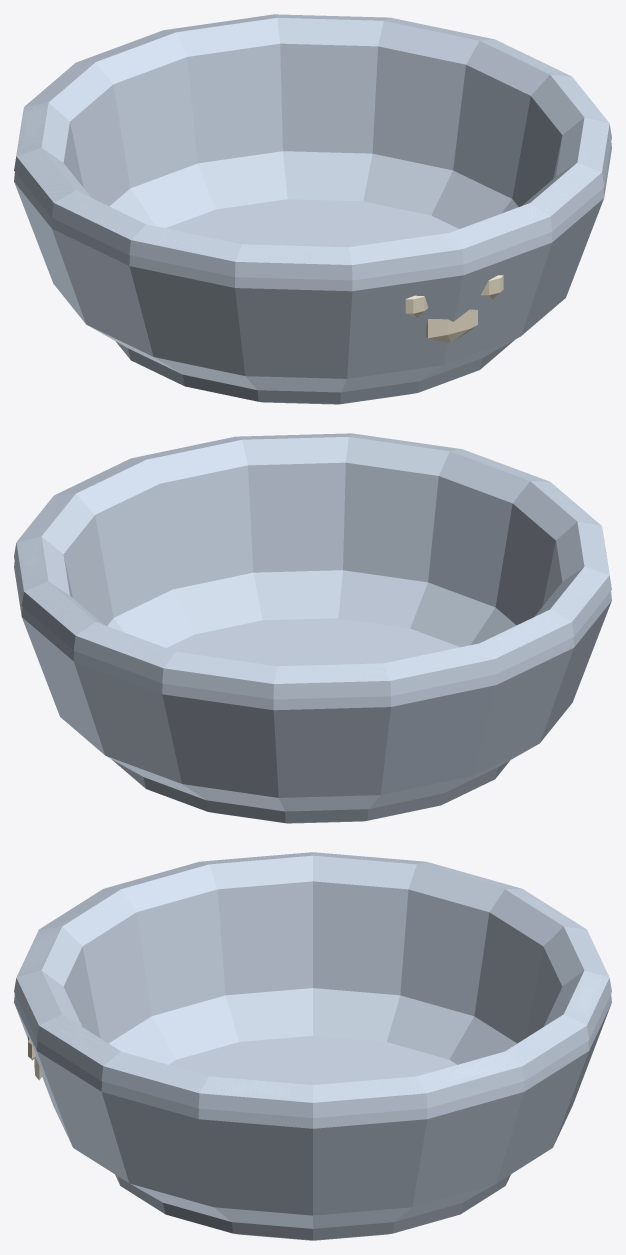
File: crafted-cat-water-1-0.glb
3 views of the same model, one above another, from view 1: azimuth 30°, elevation 25°; view 2: azimuth 150°, elevation 25°; view 3: azimuth 270°, elevation 25° (orthographic).
Parts seen in each view (by area): view 1: ceramic-bowl, glazed-rim, foot-ring, paw-pad; view 2: ceramic-bowl, glazed-rim, foot-ring; view 3: ceramic-bowl, glazed-rim, foot-ring.
Part boxes in pixels (x1,y1,x2,y2): ceramic-bowl: [14, 14, 611, 392]; glazed-rim: [14, 14, 611, 280]; foot-ring: [116, 340, 514, 404]; paw-pad: [426, 309, 477, 343]; ceramic-bowl: [14, 433, 611, 811]; glazed-rim: [14, 433, 611, 699]; foot-ring: [111, 759, 509, 823]; ceramic-bowl: [14, 852, 611, 1228]; glazed-rim: [14, 852, 611, 1117]; foot-ring: [115, 1174, 510, 1240].
Bounding box in the file's own units: 0.76 × 0.265 × 0.76.
